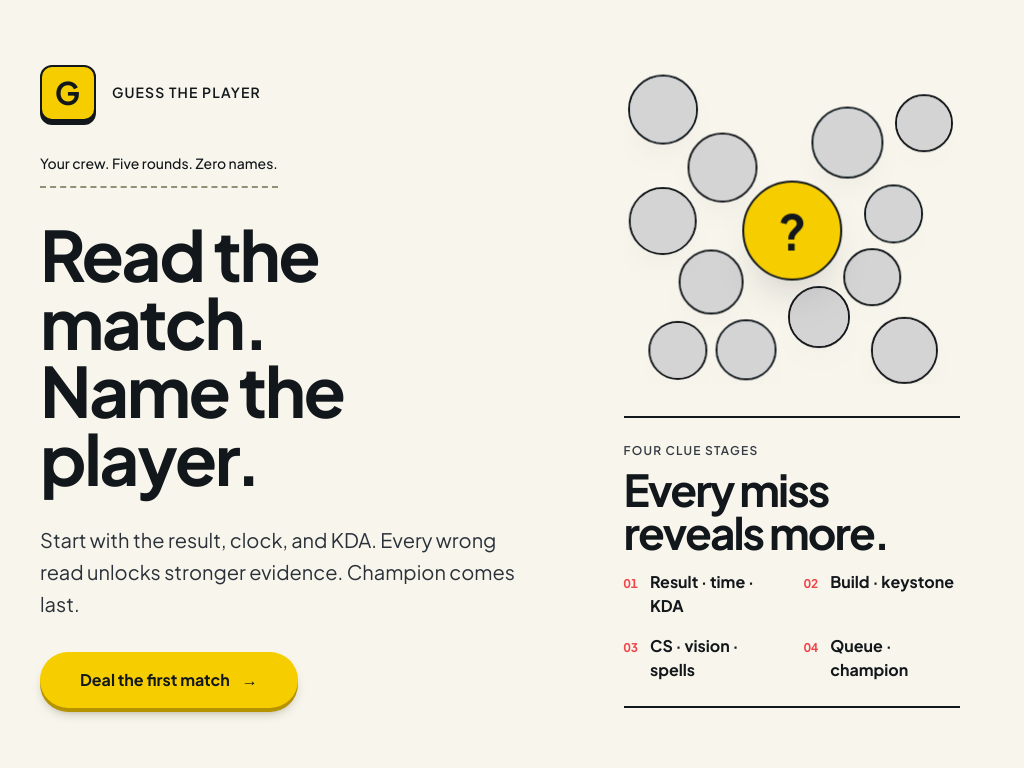
loads a round, supports keyboard selection, and updates the score
Click the button "Deal the first match →".
click(169, 680)  # box [40,652,298,708]
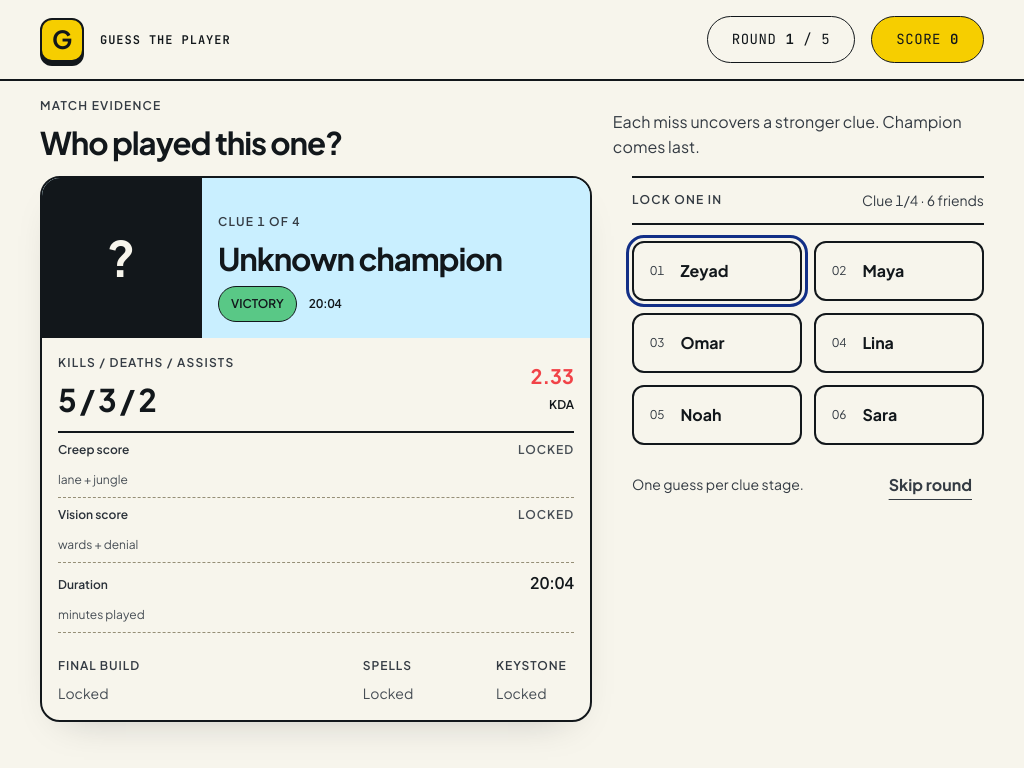
Press Enter
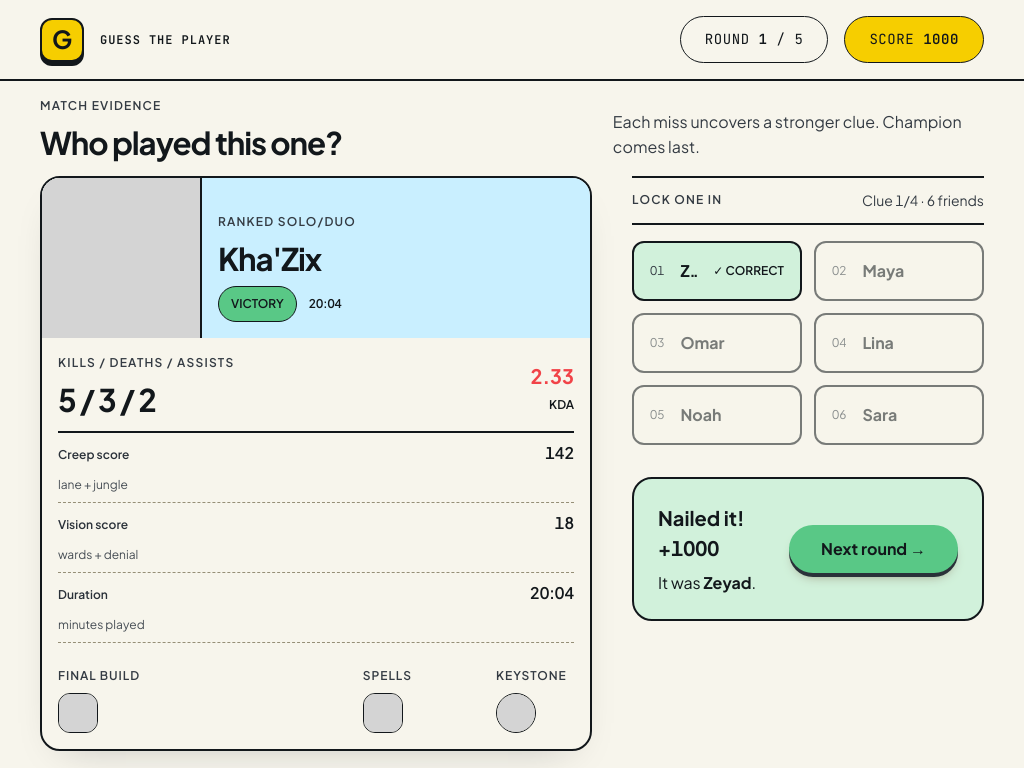
Check: the text "Nailed it! +1000" is shown, box [658,505,744,560]
Check: the text "1000" is shown, box [923,30,959,48]
